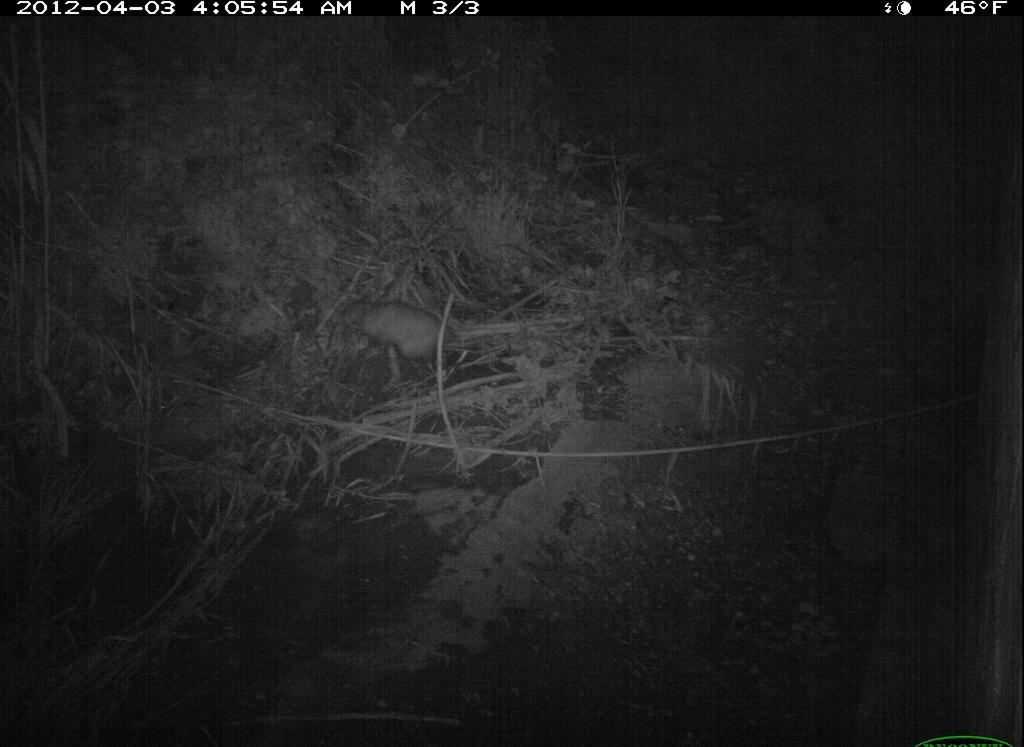opossum: (328, 281, 468, 385)
